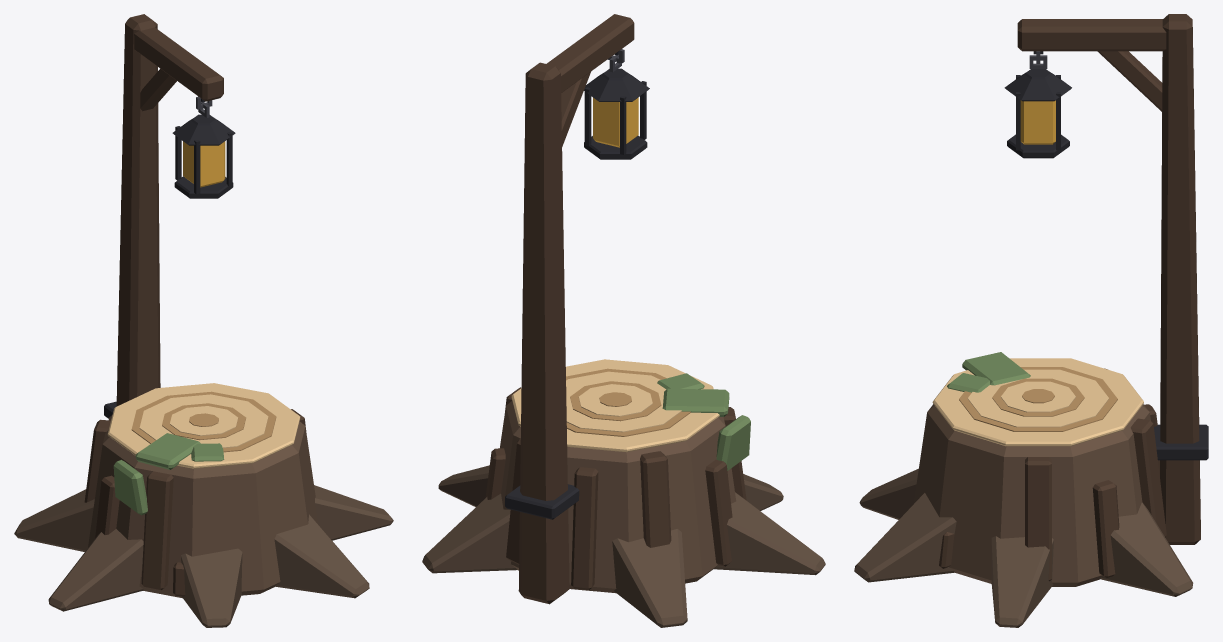
File: ToolStump.gltf
The picture shows the model from 3 angles, left to right: view 1: azimuth 30°, elevation 25°; view 2: azimuth 150°, elevation 25°; view 3: azimuth 270°, elevation 25°; orthographic projection. The views are drawn at different scales.
Visible parts, largest first — view 1: Root, Trunk, Post, Rings, Ridge, Arm, Moss, Iron, RingLines, Lamp; view 2: Post, Root, Trunk, Ridge, Rings, Iron, Arm, Moss, RingLines, Lamp; view 3: Trunk, Post, Root, Rings, Ridge, Arm, Iron, RingLines, Moss, Lamp.
Boxes of the visible parts, bbox=[...] form: Root: bbox=[14, 485, 393, 627]; Trunk: bbox=[88, 415, 318, 598]; Post: bbox=[116, 14, 160, 406]; Rings: bbox=[107, 383, 300, 468]; Ridge: bbox=[84, 409, 306, 596]; Arm: bbox=[134, 27, 223, 111]; Moss: bbox=[113, 433, 224, 515]; Iron: bbox=[104, 98, 235, 418]; RingLines: bbox=[131, 391, 276, 452]; Lamp: bbox=[183, 141, 225, 187]; Post: bbox=[518, 62, 569, 604]; Root: bbox=[422, 465, 825, 627]; Trunk: bbox=[500, 401, 736, 593]; Ridge: bbox=[485, 387, 746, 589]; Rings: bbox=[511, 359, 719, 452]; Iron: bbox=[505, 51, 649, 519]; Arm: bbox=[546, 14, 634, 146]; Moss: bbox=[657, 373, 750, 470]; RingLines: bbox=[566, 368, 690, 436]; Lamp: bbox=[593, 97, 638, 147]; Trunk: bbox=[913, 404, 1150, 586]; Post: bbox=[1160, 14, 1200, 544]; Root: bbox=[854, 468, 1193, 627]; Rings: bbox=[932, 358, 1143, 446]; Ridge: bbox=[939, 368, 1166, 581]; Arm: bbox=[1017, 19, 1166, 111]; Iron: bbox=[1004, 51, 1208, 460]; RingLines: bbox=[959, 367, 1117, 431]; Moss: bbox=[947, 352, 1030, 392]; Lamp: bbox=[1020, 100, 1055, 144].
Bounding box in the file's own units: 9.81 × 13.2 × 8.12.
